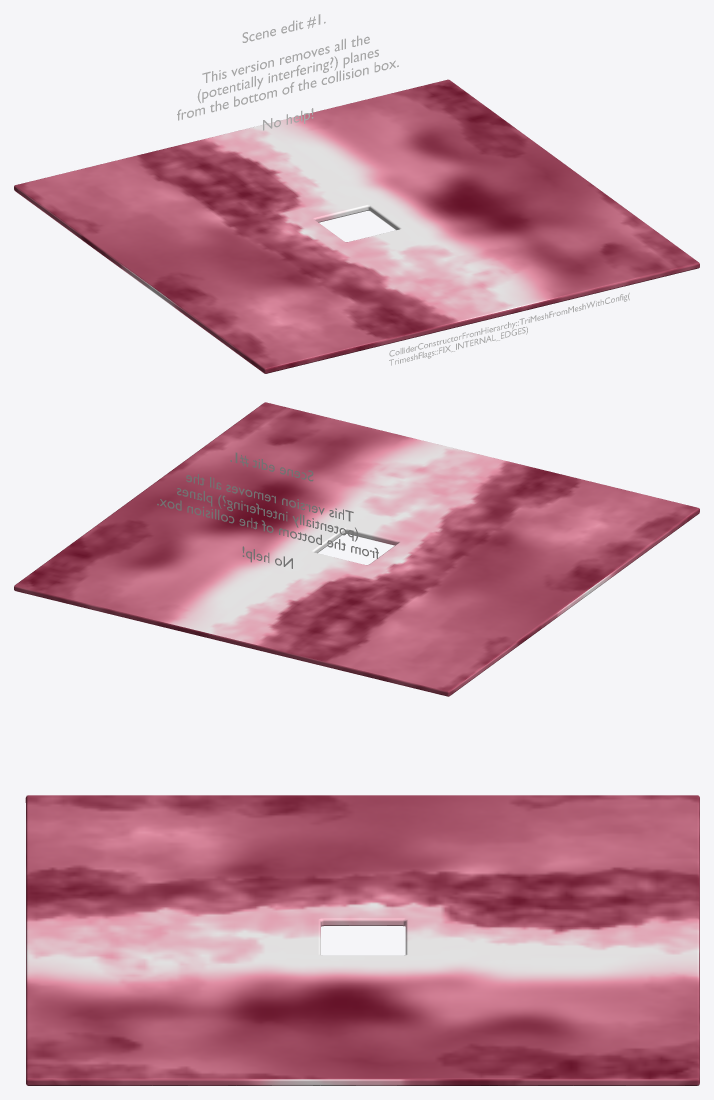
The model's file is level_0_edit_1.glb.
3 views of the same model, one above another, from view 1: azimuth 30°, elevation 25°; view 2: azimuth 150°, elevation 25°; view 3: azimuth 270°, elevation 25° (orthographic). The views are drawn at different scales.
Visible parts, largest first — view 1: Floor.004, Text.002, Text.001; view 2: Floor.004, Text.002; view 3: Floor.004.
Part boxes in pixels (x1,y1,x2,y2): Floor.004: [14, 79, 699, 373]; Text.002: [177, 14, 398, 130]; Text.001: [389, 292, 629, 365]; Floor.004: [14, 402, 699, 696]; Text.002: [157, 452, 378, 568]; Floor.004: [25, 795, 699, 1085].
Size of what is drawn, in the model's own units: 29.71 by 10.88 by 30.24.
2 materials, 1 textured.
